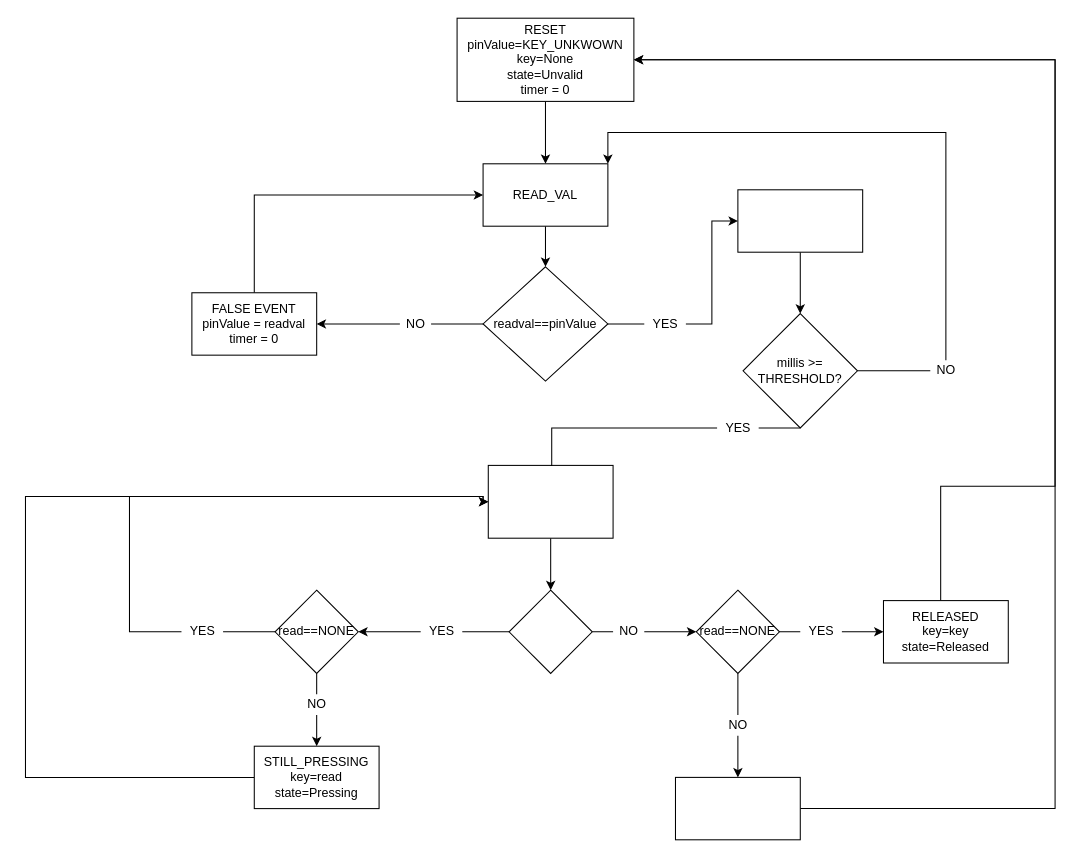
Image size: 1082x858. Some labels were removed from this diagram. Here are the shapes that lost their labels. From the top down, the centre of each, then its label:
[800,220]: TRUE EVENT timer += millis()
[550,501]: READ_VAL(read)
[550,631]: read == key
[737,808]: PRESSED key = read state=Pressed
